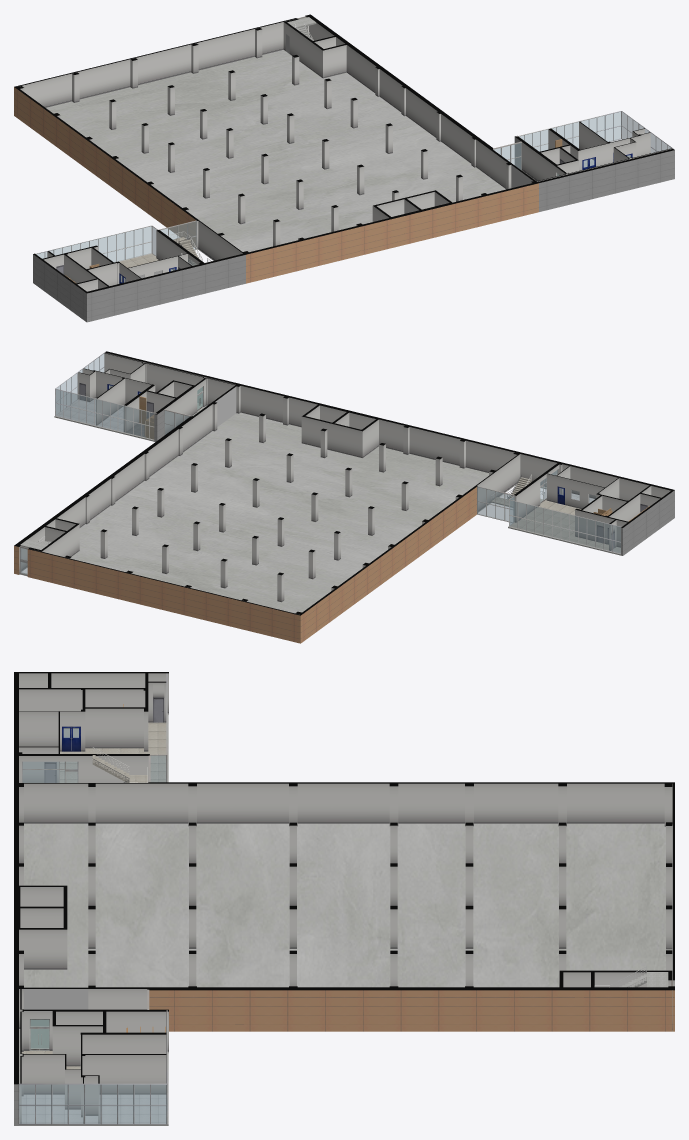
3 renders of one model, top to bottom at view 1: azimuth 30°, elevation 25°; view 2: azimuth 150°, elevation 25°; view 3: azimuth 270°, elevation 25°, orthographic. The views are drawn at different scales.
Parts seen in each view (by area): view 1: F&F-2F, Line028, Box781; view 2: F&F-2F, Line028, Box781, Box943, Box961; view 3: Line028, F&F-2F, Box781, Box961, Box943.
Part boxes in pixels (box(x1,y1,x2,y2)): F&F-2F: box(14, 14, 674, 322); Line028: box(46, 50, 621, 282); Box781: box(36, 16, 673, 262); F&F-2F: box(14, 351, 674, 643); Line028: box(21, 398, 620, 613); Box781: box(20, 352, 621, 576); Box943: box(79, 383, 647, 550); Box961: box(197, 386, 595, 503); Line028: box(19, 713, 672, 1125); F&F-2F: box(14, 672, 674, 1125); Box781: box(18, 673, 672, 1124); Box961: box(22, 761, 78, 1050); Box943: box(44, 697, 164, 782).
Bounding box in the file's own units: 77.56 × 4.52 × 52.53.
Materials: 23 (15 with a texture image).
